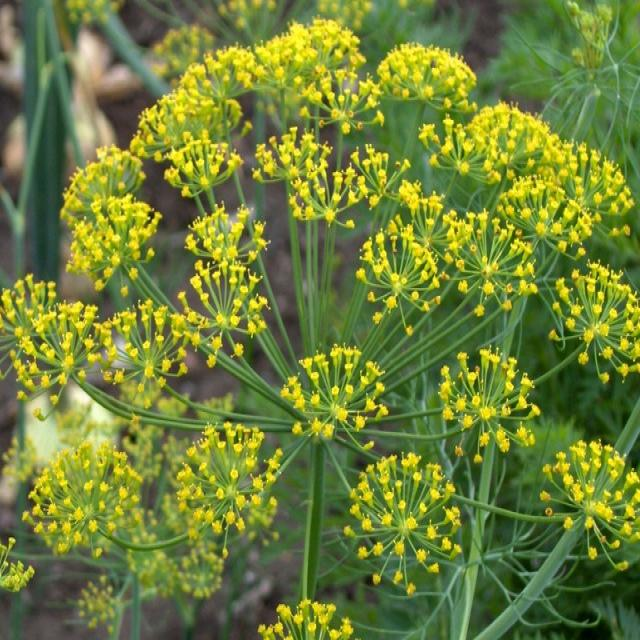Dill: (10, 5, 639, 639)
